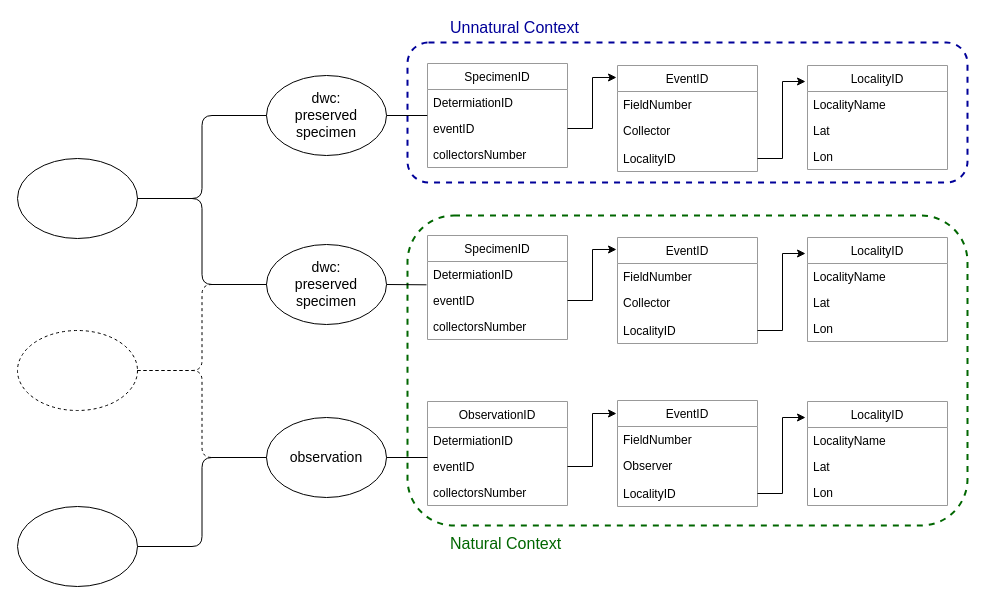
Image size: 986x604. Some labels were removed from this diagram. Here are the shapes that lost their labels. From the top down, the centre of each, then its label:
At [77,198]: "bco: materialSample".
At [77,370]: "dwc: occurrence".
At [77,546]: "bco: informationArtifact".
